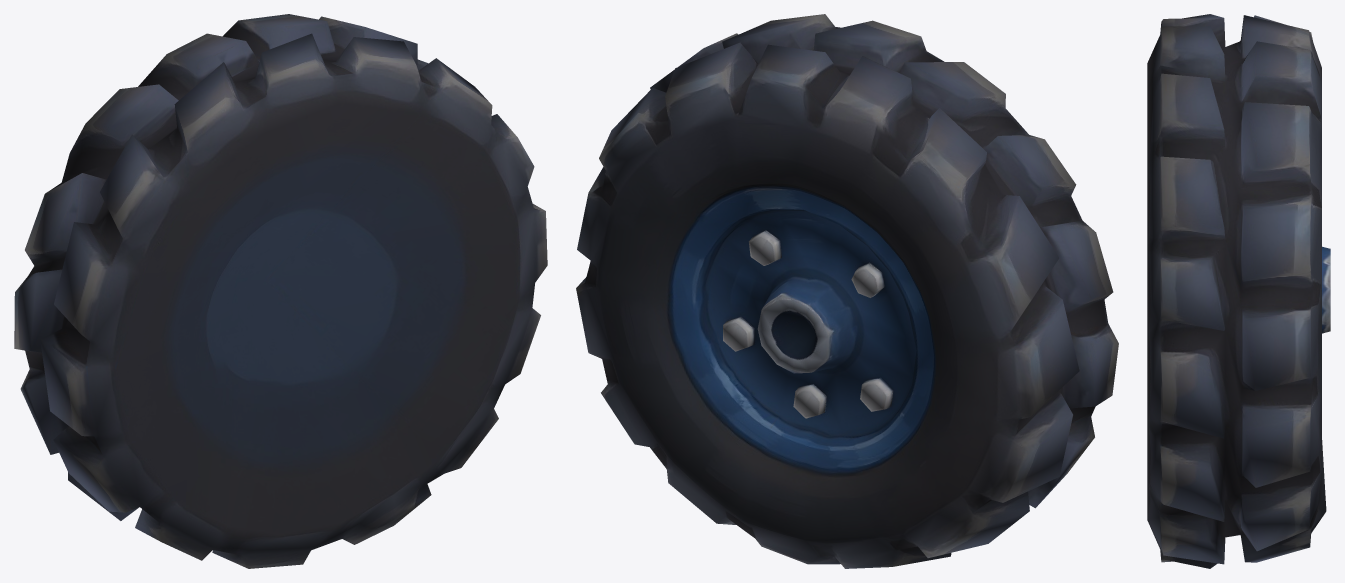
3 renders of one model, left to right at view 1: azimuth 30°, elevation 25°; view 2: azimuth 150°, elevation 25°; view 3: azimuth 270°, elevation 25°, orthographic.
Visible parts, largest first — view 1: tripo_node_9d423381-e402-4121-9328-0e8f06fe6534; view 2: tripo_node_9d423381-e402-4121-9328-0e8f06fe6534; view 3: tripo_node_9d423381-e402-4121-9328-0e8f06fe6534.
Boxes of the visible parts, x1,y1,x2,y2 form: tripo_node_9d423381-e402-4121-9328-0e8f06fe6534: (14,14,547,568); tripo_node_9d423381-e402-4121-9328-0e8f06fe6534: (576,14,1118,568); tripo_node_9d423381-e402-4121-9328-0e8f06fe6534: (1147,14,1330,568).
Bounding box in the file's own units: 0.998 × 0.998 × 0.3301.
Materials: 1 (1 with a texture image).
